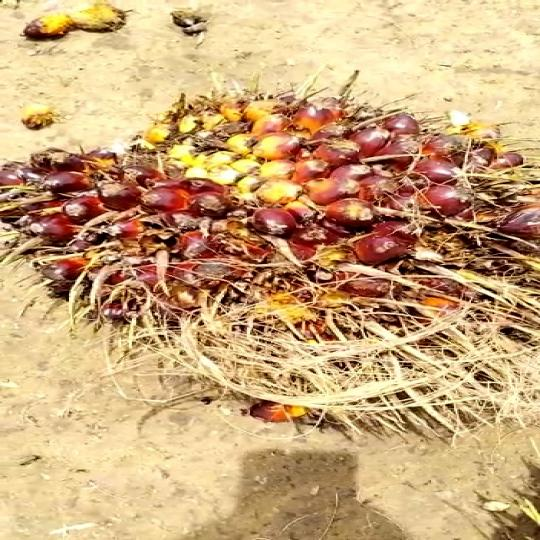masak: (0, 80, 540, 445)
